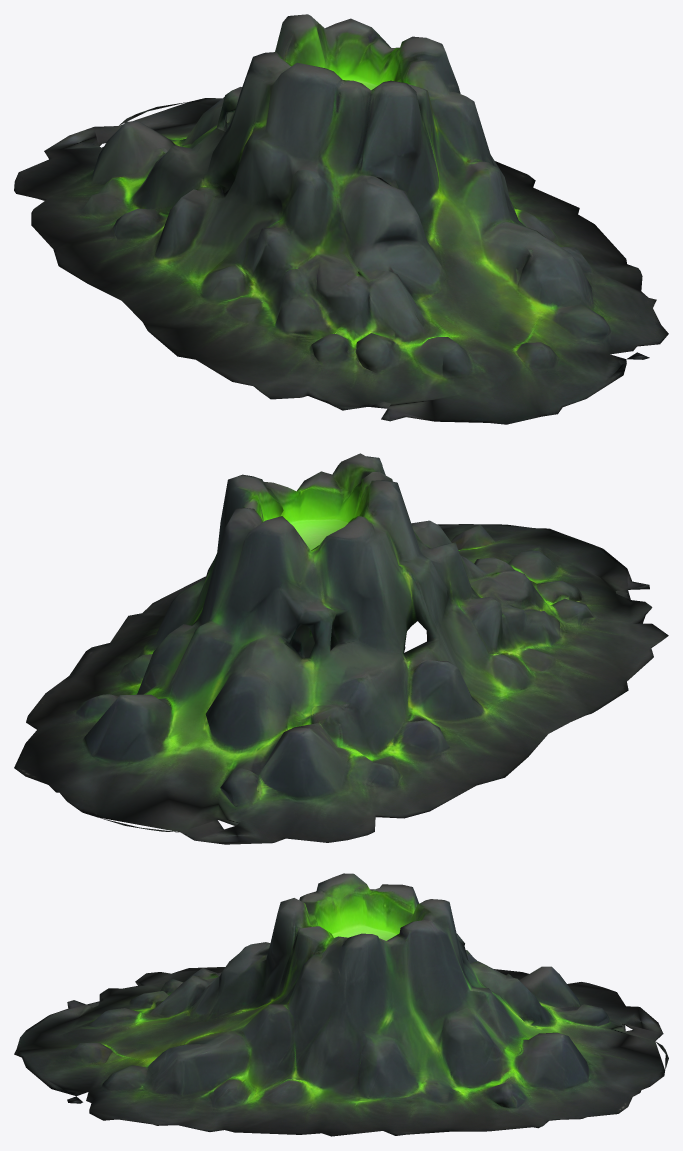
The model's file is resource_energy_node.glb.
3 views of the same model, one above another, from view 1: azimuth 30°, elevation 25°; view 2: azimuth 150°, elevation 25°; view 3: azimuth 270°, elevation 25° (orthographic). The views are drawn at different scales.
Size of the model in its own units: 1.26 by 0.5739 by 2.
1 material, 1 textured.
